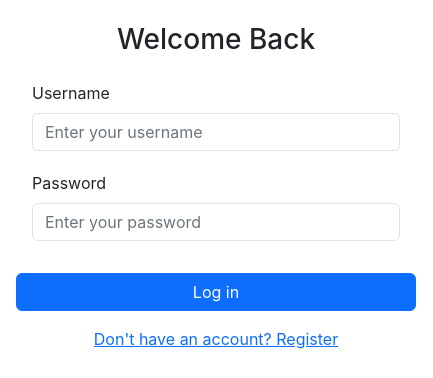
Test: Login Component › Form Validation › shows validation error for short password
Type "12345" into the password field labelled "Password".
click(216, 222); type("12345")  # box [32,203,400,241]
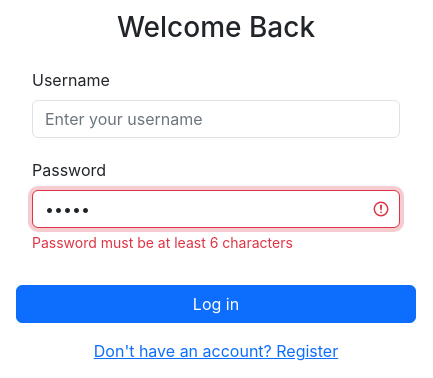
Check: the text "Password must be at least 6 characters" is shown, box [32,234,293,251]
